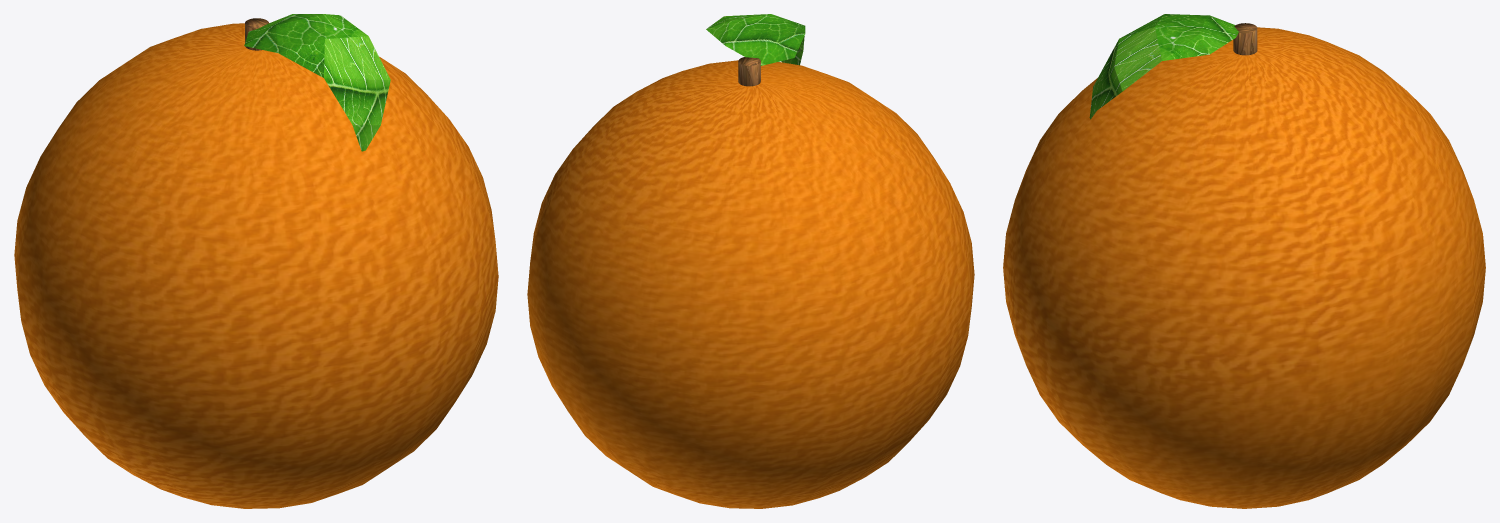
Rendered from Orange.fbx.
3 views of the same model, side by side, from view 1: azimuth 30°, elevation 25°; view 2: azimuth 150°, elevation 25°; view 3: azimuth 270°, elevation 25° (orthographic). The views are drawn at different scales.
Visible parts, largest first — view 1: pSphere1, pasted__Icosphere; view 2: pSphere1, pasted__Icosphere, OrangeMaya:Cylinder; view 3: pSphere1, pasted__Icosphere, OrangeMaya:Cylinder.
Part boxes in pixels (x1,y1,x2,y2): pSphere1: (14,23,498,508); pasted__Icosphere: (244,14,390,151); pSphere1: (527,60,974,508); pasted__Icosphere: (706,14,805,65); OrangeMaya:Cylinder: (738,57,760,86); pSphere1: (1003,27,1485,508); pasted__Icosphere: (1089,14,1238,119); OrangeMaya:Cylinder: (1233,23,1257,55).
Bounding box in the file's own units: 2 × 2.17 × 2.
Materials: 3 (3 with a texture image).
